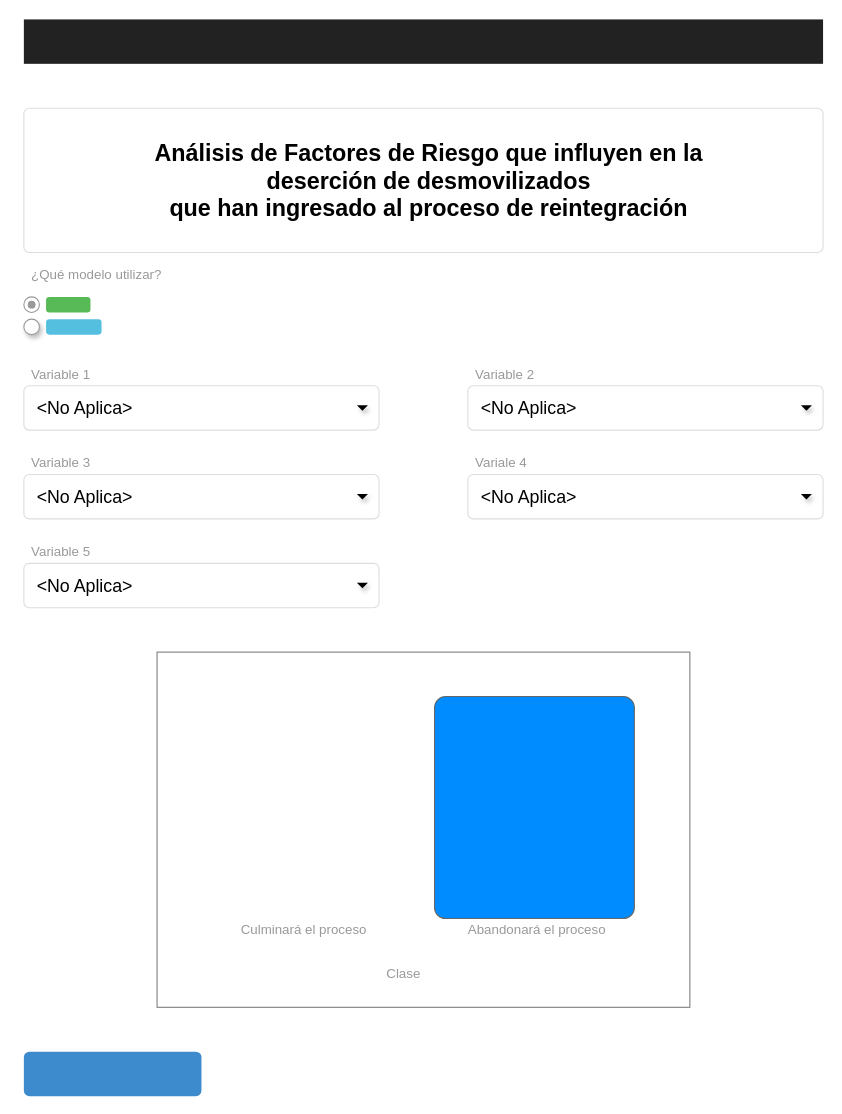
Image size: 842x1114. Some labels were removed from this diagram. The centre of each missing label's shape, as x and y in pixels:
Complejo: the point at 73,326
Realizar Clasificación: the point at 112,1073
Simple: the point at 68,304
